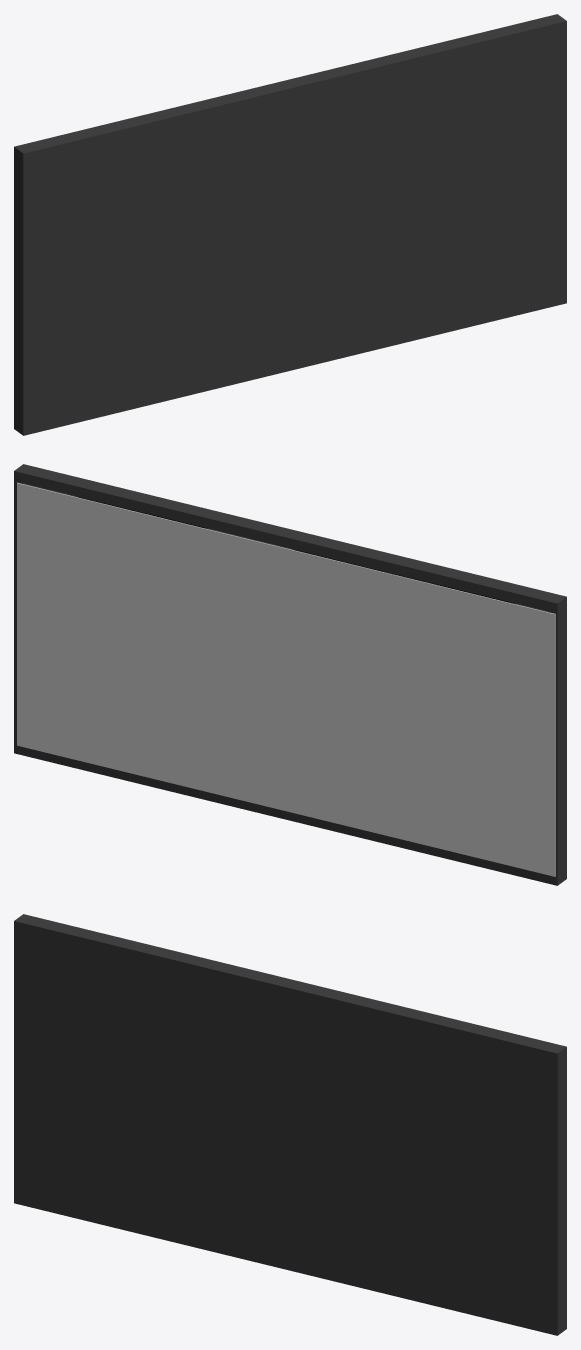
File: screens.gltf
3 views of the same model, one above another, from view 1: azimuth 30°, elevation 25°; view 2: azimuth 150°, elevation 25°; view 3: azimuth 330°, elevation 25° (orthographic).
Parts seen in each view (by area): view 1: BG_1; view 2: OBSTACLE_killScreen, BG_1; view 3: BG_1.
Part boxes in pixels (x1,y1,x2,y2): BG_1: (14, 14, 566, 435); OBSTACLE_killScreen: (17, 482, 555, 876); BG_1: (14, 464, 566, 885); BG_1: (14, 914, 566, 1335).
Bounding box in the file's own units: 1.31 × 0.6486 × 0.0424.
Materials: 5 (5 with a texture image).
